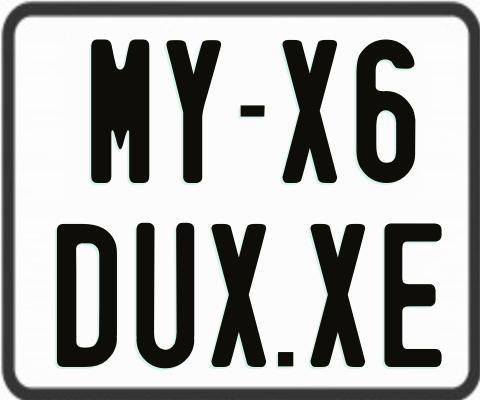6: (354, 37, 417, 181)
D: (55, 221, 117, 367)
E: (382, 222, 443, 370)
M: (88, 39, 152, 184)
U: (133, 222, 196, 368)
X: (212, 221, 272, 368), (310, 224, 369, 370), (283, 38, 343, 181)
Y: (166, 39, 223, 183)
